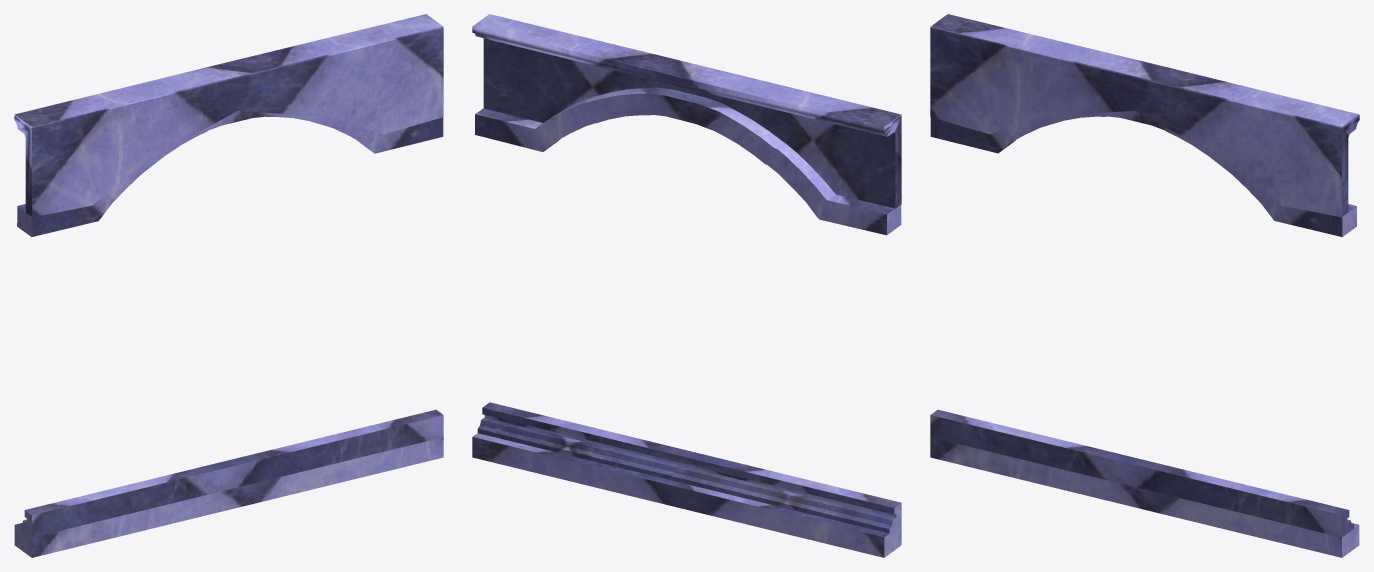
File: hub_wall_trim_pieces.fbx
The picture shows the model from 3 angles, left to right: view 1: azimuth 30°, elevation 25°; view 2: azimuth 150°, elevation 25°; view 3: azimuth 330°, elevation 25°; orthographic projection.
Parts seen in each view (by area): view 1: wall_trim_top, wall_trim_border, wall_trim_brick_border, wall_trim_arc; view 2: wall_trim_top, wall_trim_border, wall_trim_arc, wall_trim_brick_border; view 3: wall_trim_top, wall_trim_border, wall_trim_brick_border, wall_trim_arc.
Part boxes in pixels (x1,y1,x2,y2): wall_trim_top: (14,14,443,217); wall_trim_border: (19,409,443,537); wall_trim_brick_border: (14,437,443,557); wall_trim_arc: (17,111,443,236); wall_trim_top: (472,14,901,208); wall_trim_border: (477,402,901,533); wall_trim_arc: (475,87,901,235); wall_trim_brick_border: (472,433,901,557); wall_trim_top: (930,14,1359,217); wall_trim_border: (930,409,1354,537); wall_trim_brick_border: (930,437,1359,557); wall_trim_arc: (930,110,1356,236).
Size of the model in its own units: 22.5 by 22.5 by 1.71.
